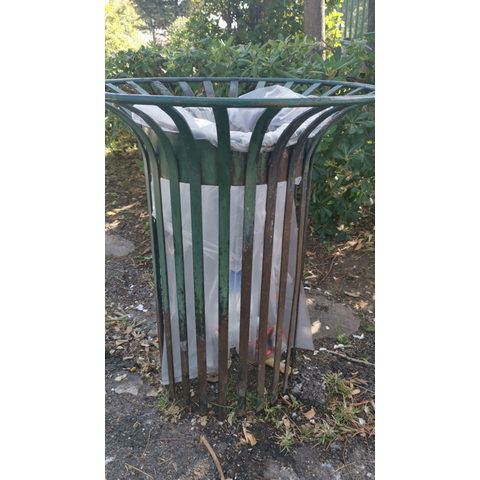poubelle: (102, 74, 374, 422)
